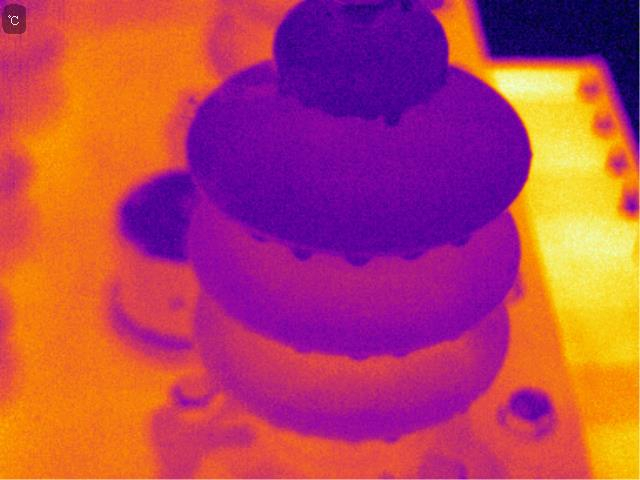Water: (343, 249, 376, 268), (395, 247, 434, 263), (289, 242, 318, 261), (382, 107, 404, 131), (443, 326, 468, 346), (443, 230, 474, 246), (246, 228, 271, 245), (385, 346, 412, 361), (347, 348, 373, 363), (288, 345, 314, 359), (383, 435, 402, 447), (358, 111, 376, 122)
